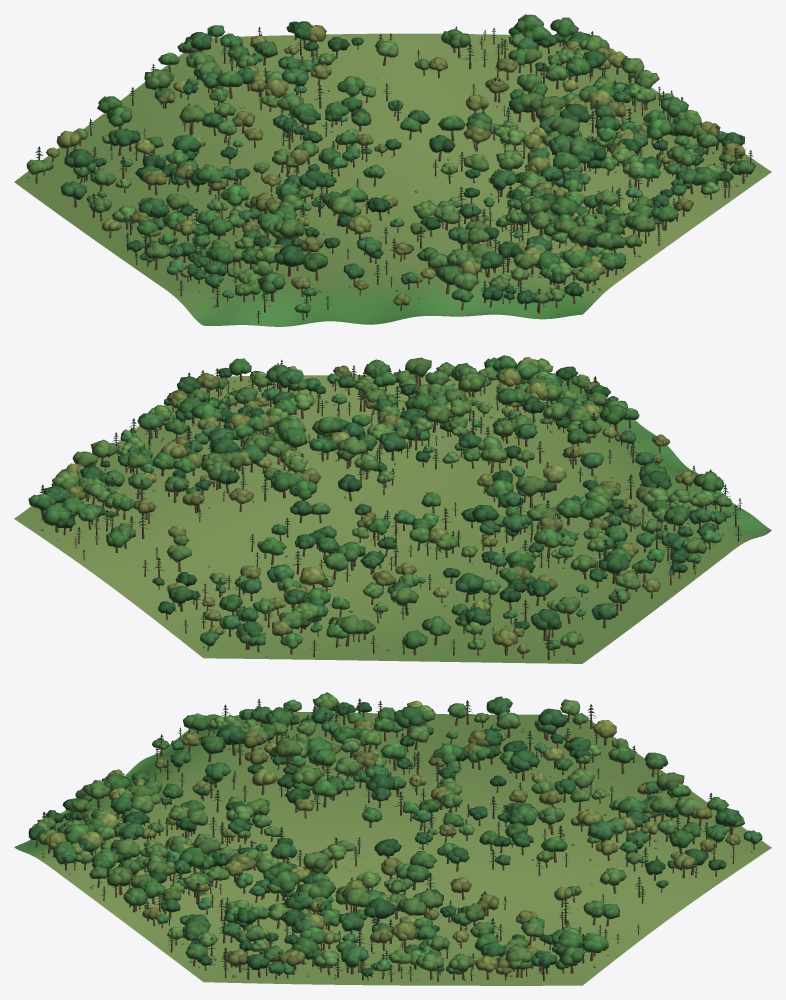
3 views of the same model, one above another, from view 1: azimuth 30°, elevation 25°; view 2: azimuth 150°, elevation 25°; view 3: azimuth 270°, elevation 25° (orthographic).
Visible parts, largest first — view 1: broadleaf_canopy, terrain, trunks, conifer_canopy; view 2: broadleaf_canopy, terrain, trunks, conifer_canopy; view 3: broadleaf_canopy, terrain, trunks, conifer_canopy.
Part boxes in pixels (<box>): broadleaf_canopy: <box>26,14,755,313</box>; terrain: <box>14,33,771,326</box>; trunks: <box>35,27,751,323</box>; conifer_canopy: <box>35,26,753,317</box>; broadleaf_canopy: <box>28,355,731,654</box>; terrain: <box>14,374,771,663</box>; trunks: <box>41,361,740,659</box>; conifer_canopy: <box>39,359,743,649</box>; broadleaf_canopy: <box>28,692,762,976</box>; terrain: <box>14,711,771,985</box>; trunks: <box>35,699,755,982</box>; conifer_canopy: <box>42,698,735,975</box>.
Bounding box in the file's own units: 4330 × 342 × 5000.
